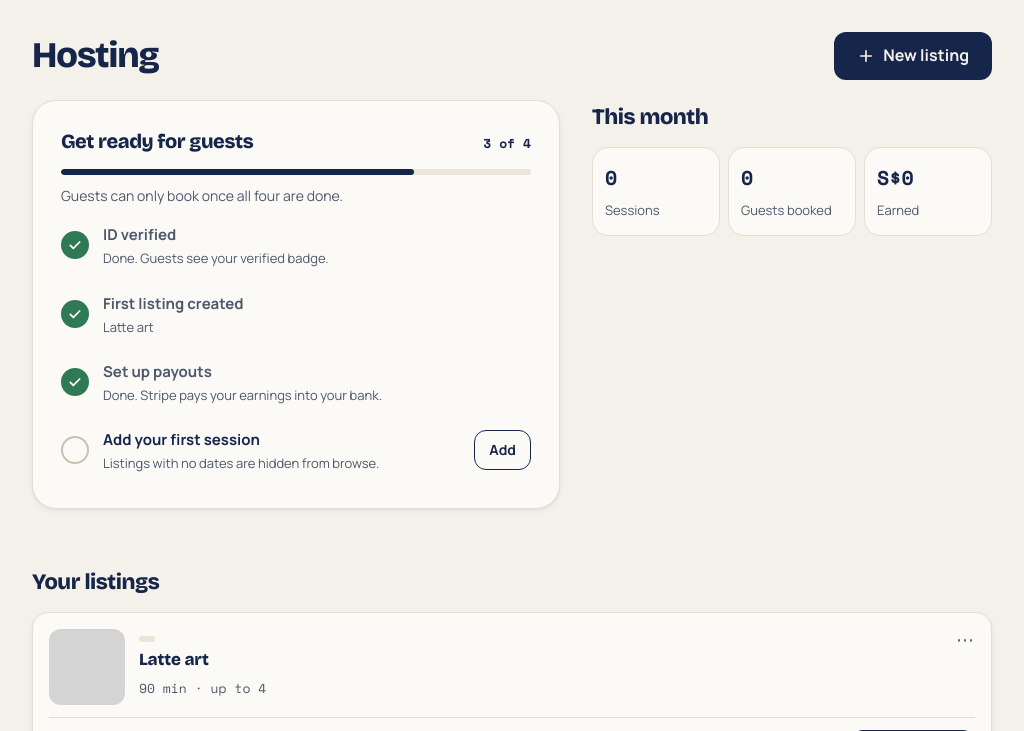
Dashboard listings › removes the listing from the page once deleted
Expected: the heading "Hosting" is shown, [32, 36, 159, 76]
Click the button named "More actions".
click(965, 639)  # box [947, 621, 983, 657]
(page scrolled)
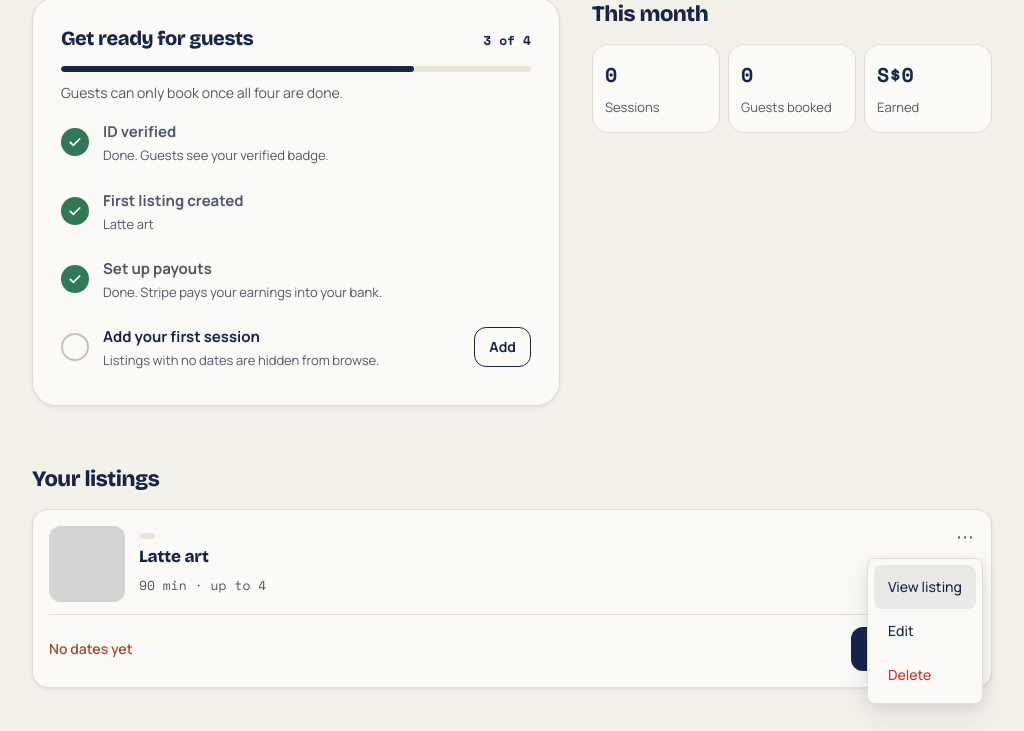
Click the menu item "Delete".
click(925, 675)  # box [874, 653, 976, 697]
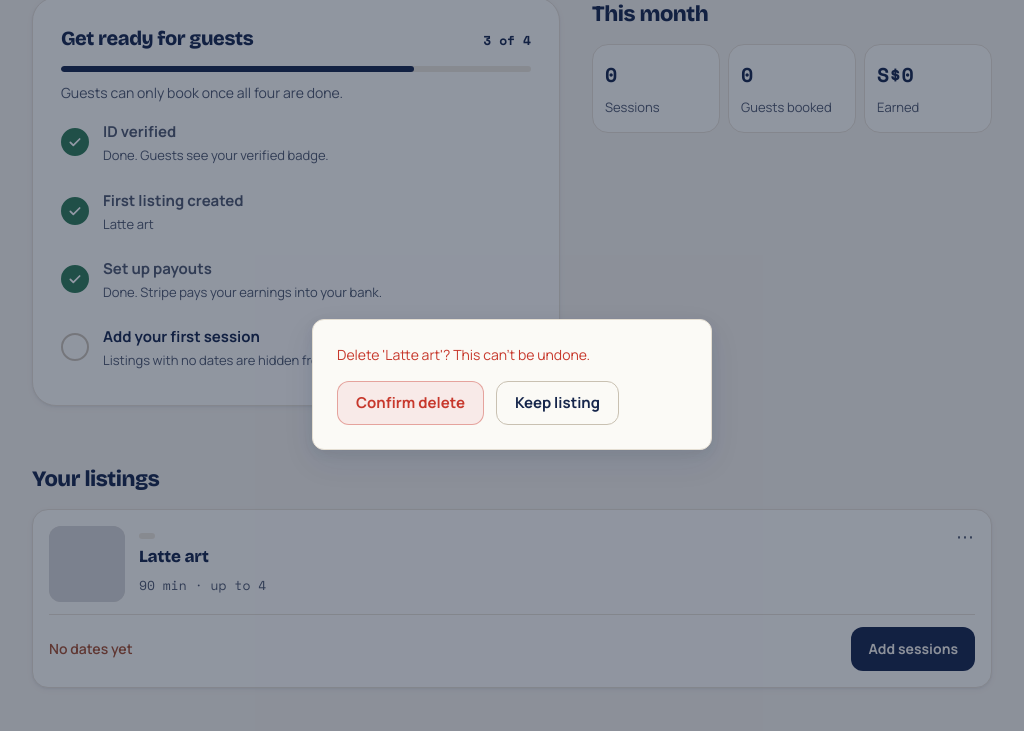
Click the button "Confirm delete".
click(410, 402)  # box [337, 380, 484, 424]
(page scrolled)
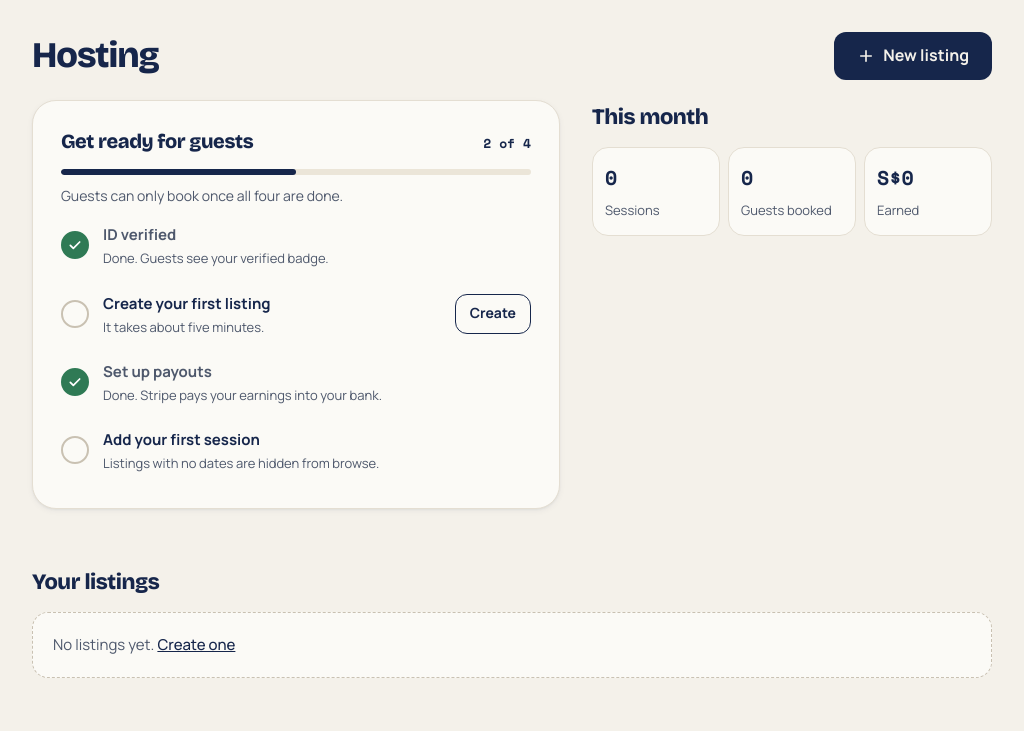
Expected: the text "Latte art" is gone
